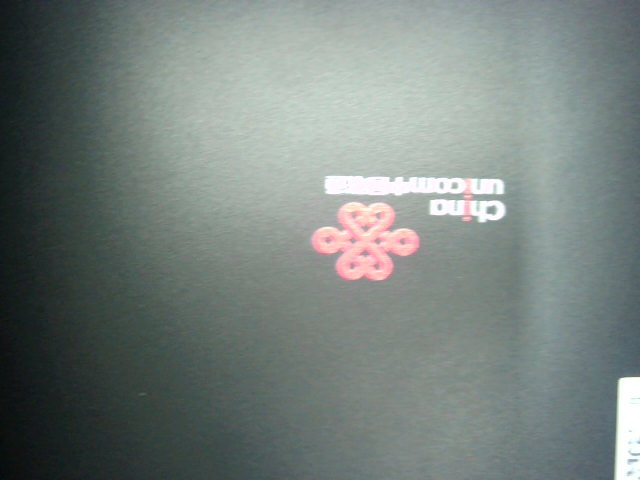AC_ChinaUnicom: (296, 168, 510, 286)
